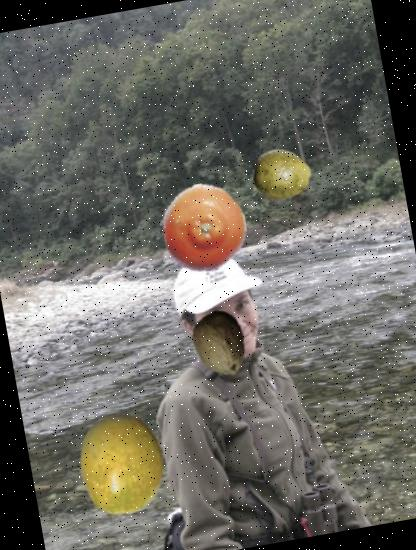Guava: (249, 141, 316, 208)
Maracuja: (63, 406, 178, 522)
Papaya: (180, 304, 258, 382)
Tangelo: (150, 176, 254, 280)
